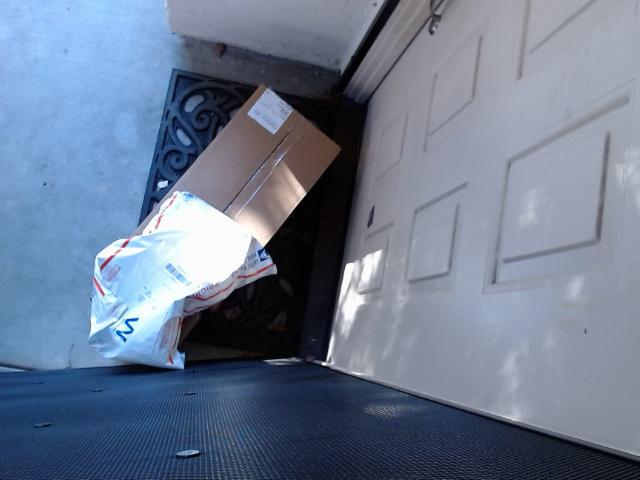box: (133, 66, 338, 263)
plastic_bag: (82, 191, 278, 357)
